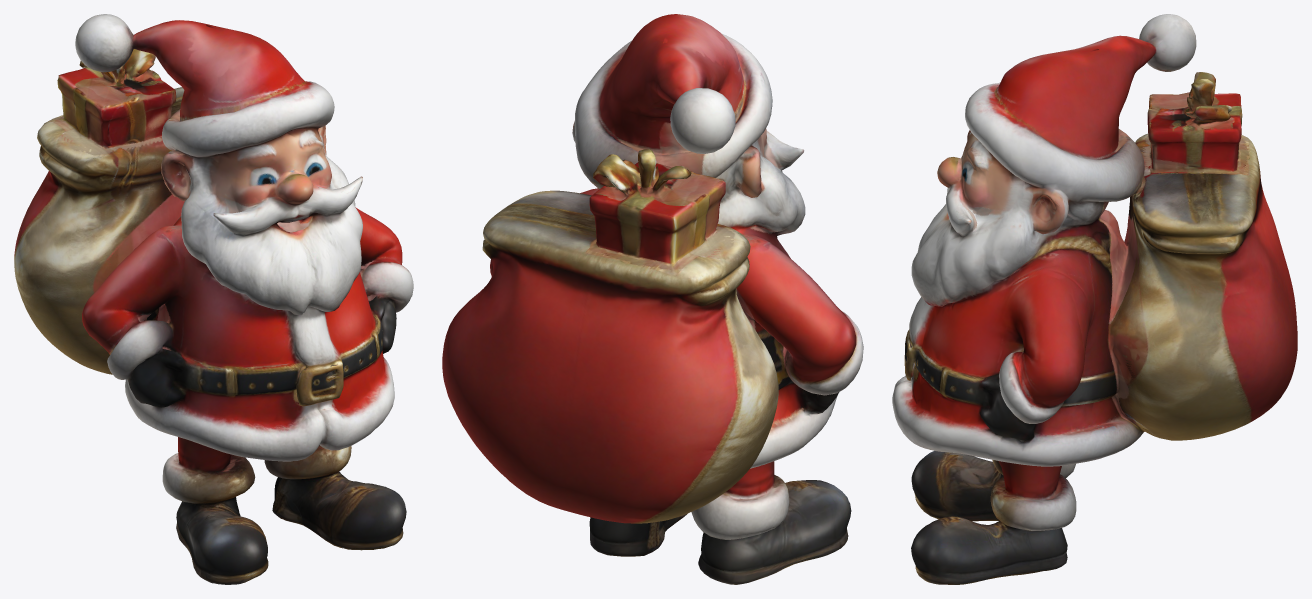
File: santa-3.glb
3 renders of one model, left to right at view 1: azimuth 30°, elevation 25°; view 2: azimuth 150°, elevation 25°; view 3: azimuth 270°, elevation 25°, orthographic. The views are drawn at different scales.
Bounding box in the file's own units: 1.36 × 2 × 1.52.
1 material, 1 textured.
